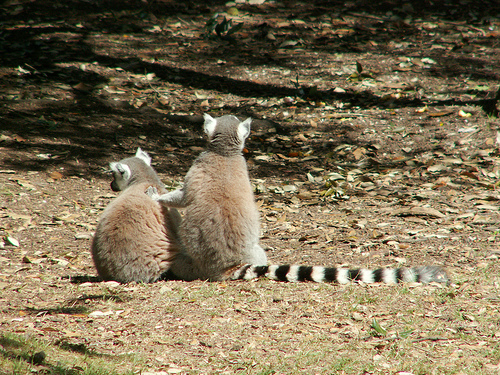cat: (146, 113, 448, 285), (92, 149, 198, 290)
